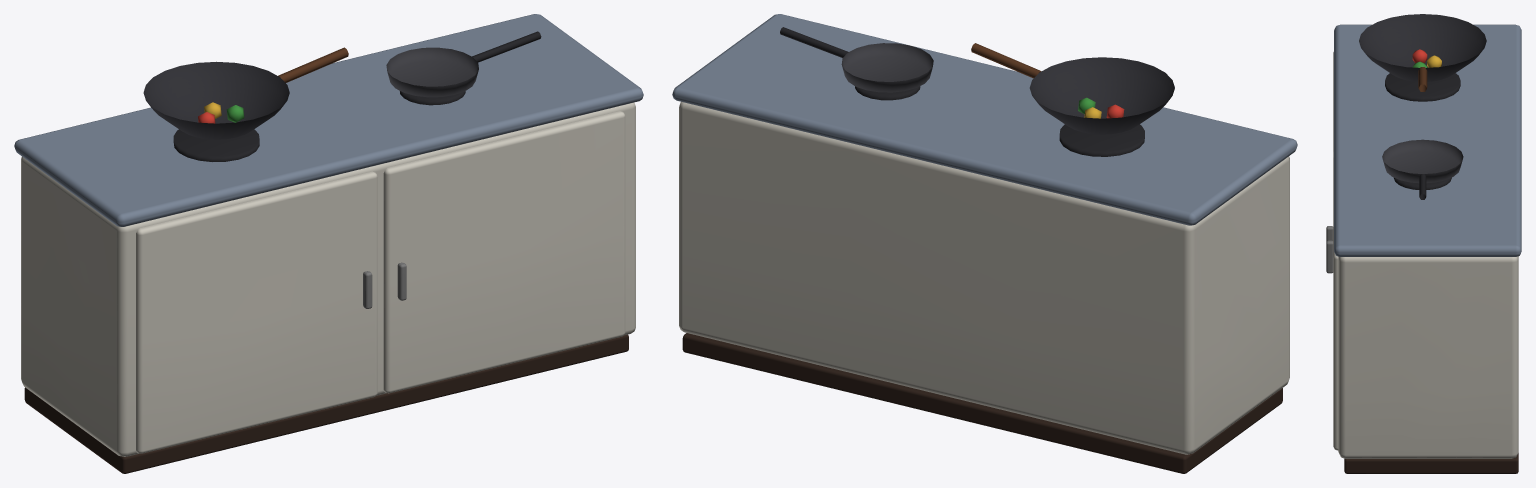
Rendered from furn_wok_stove.glb.
3 renders of one model, left to right at view 1: azimuth 30°, elevation 25°; view 2: azimuth 150°, elevation 25°; view 3: azimuth 270°, elevation 25°, orthographic. The views are drawn at different scales.
Visible parts, largest first — view 1: furn_wok_stove_main; view 2: furn_wok_stove_main; view 3: furn_wok_stove_main.
Part boxes in pixels (bbox=[...]): furn_wok_stove_main: bbox=[14, 14, 643, 473]; furn_wok_stove_main: bbox=[672, 14, 1297, 473]; furn_wok_stove_main: bbox=[1326, 14, 1521, 473].
Bounding box in the file's own units: 1.83 × 1.09 × 0.672.
